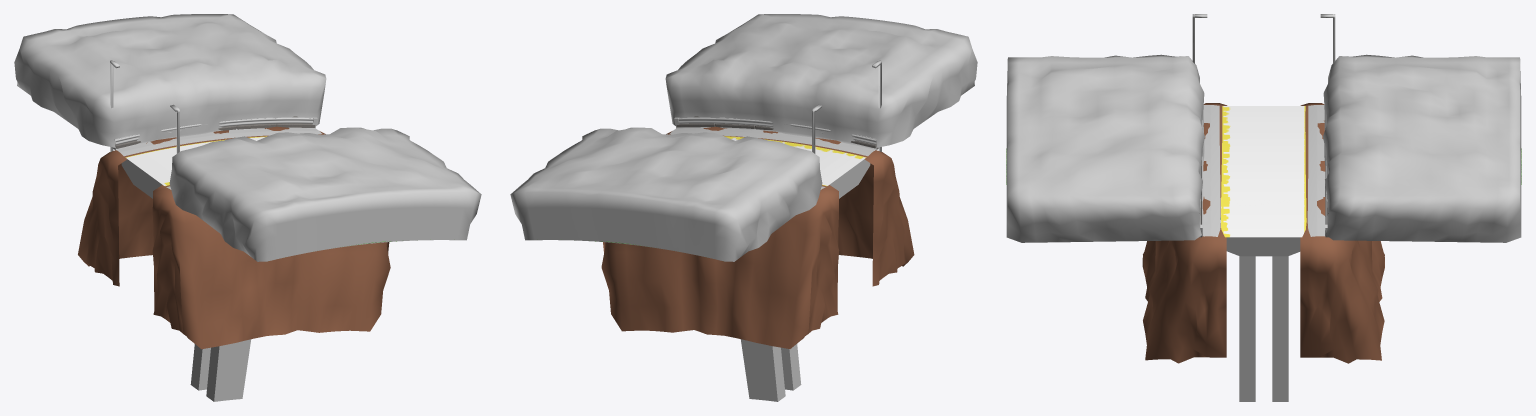
The model's file is RoadStraightDown_LOD0.fbx.
The picture shows the model from 3 angles, left to right: view 1: azimuth 30°, elevation 25°; view 2: azimuth 150°, elevation 25°; view 3: azimuth 270°, elevation 25°; orthographic projection. The views are drawn at different scales.
Visible parts, largest first — view 1: MountainRight, MountainLeft, CliffRight, CliffLeft, Road, PianoLeft, Road Mask, RailGuardLeft, ConcreteWallLeft; view 2: MountainLeft, MountainRight, CliffLeft, CliffRight, Road, PianoRight, Road Mask, RailGuardRight, ConcreteWallRight; view 3: MountainRight, MountainLeft, Road Mask, CliffLeft, CliffRight, Road, PianoRight, PianoLeft.
Part boxes in pixels (x1=…): MountainRight: x1=169, y1=127, x2=481, y2=261; MountainLeft: x1=14, y1=14, x2=326, y2=150; CliffRight: x1=152, y1=185, x2=390, y2=349; CliffLeft: x1=78, y1=126, x2=325, y2=286; Road: x1=121, y1=159, x2=251, y2=401; PianoLeft: x1=116, y1=128, x2=321, y2=156; Road Mask: x1=125, y1=136, x2=266, y2=186; RailGuardLeft: x1=115, y1=118, x2=313, y2=144; ConcreteWallLeft: x1=114, y1=116, x2=315, y2=149; MountainLeft: x1=510, y1=127, x2=822, y2=261; MountainRight: x1=665, y1=14, x2=977, y2=150; CliffLeft: x1=601, y1=185, x2=839, y2=348; CliffRight: x1=666, y1=126, x2=914, y2=286; Road: x1=740, y1=159, x2=870, y2=401; PianoRight: x1=669, y1=128, x2=874, y2=156; Road Mask: x1=724, y1=136, x2=866, y2=186; RailGuardRight: x1=678, y1=118, x2=876, y2=144; ConcreteWallRight: x1=676, y1=116, x2=878, y2=149; MountainRight: x1=1006, y1=54, x2=1204, y2=242; MountainLeft: x1=1323, y1=54, x2=1521, y2=242; Road Mask: x1=1221, y1=106, x2=1306, y2=237; CliffLeft: x1=1300, y1=103, x2=1384, y2=363; CliffRight: x1=1142, y1=103, x2=1227, y2=363; Road: x1=1226, y1=237, x2=1300, y2=401; PianoRight: x1=1203, y1=105, x2=1220, y2=236; PianoLeft: x1=1307, y1=105, x2=1325, y2=236.
Size of what is drawn, in the model's own units: 592 by 772 by 1052.
